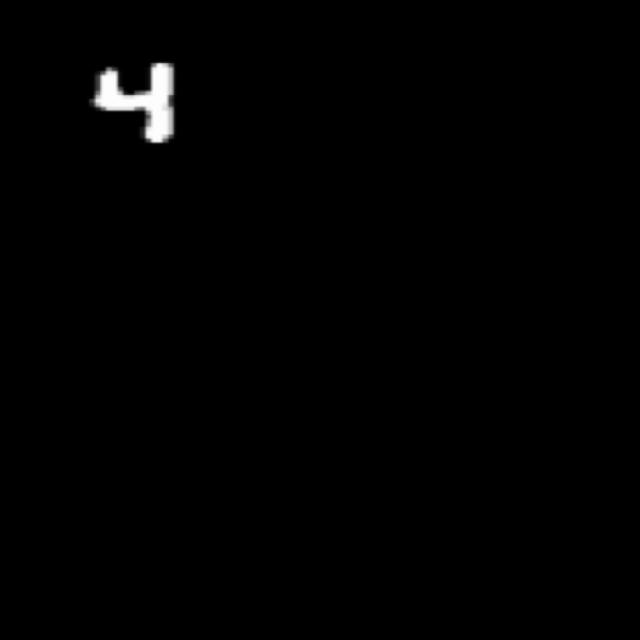four -4-: (80, 52, 194, 158)
